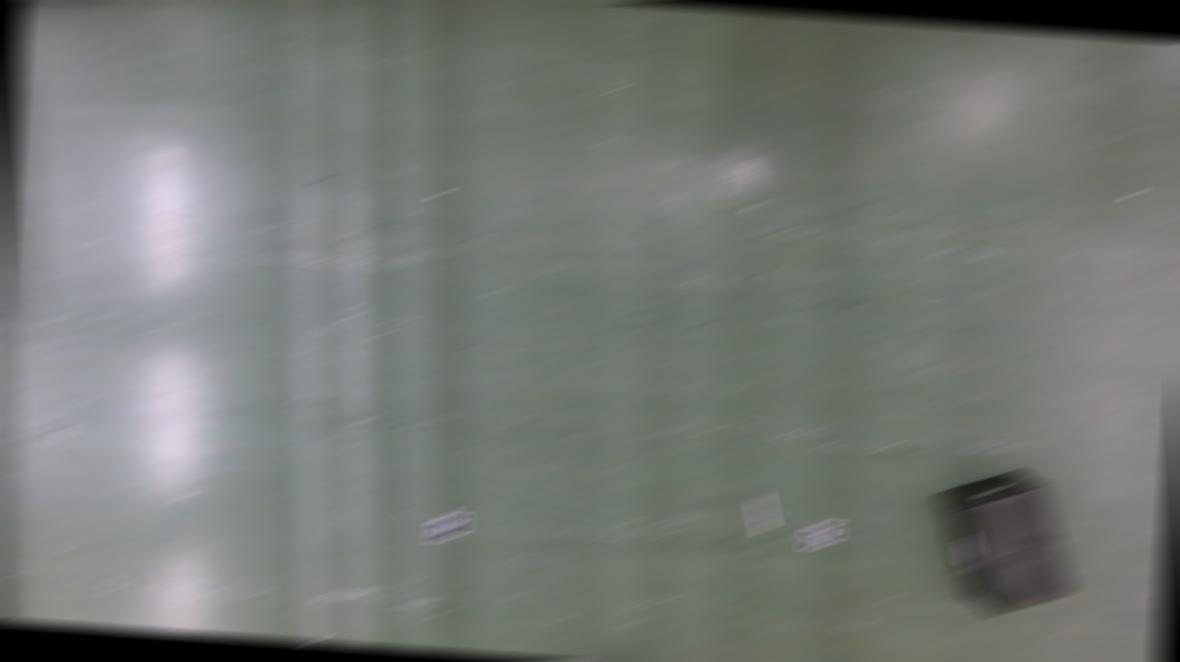probes: (748, 494, 774, 530), (292, 636, 324, 642)
rako: (927, 466, 1081, 616)
